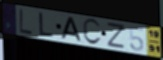5: (129, 25, 145, 52)
A: (60, 16, 83, 43)
C: (82, 17, 103, 46)
L: (19, 7, 34, 36), (39, 12, 55, 39)
Z: (106, 22, 126, 50)
